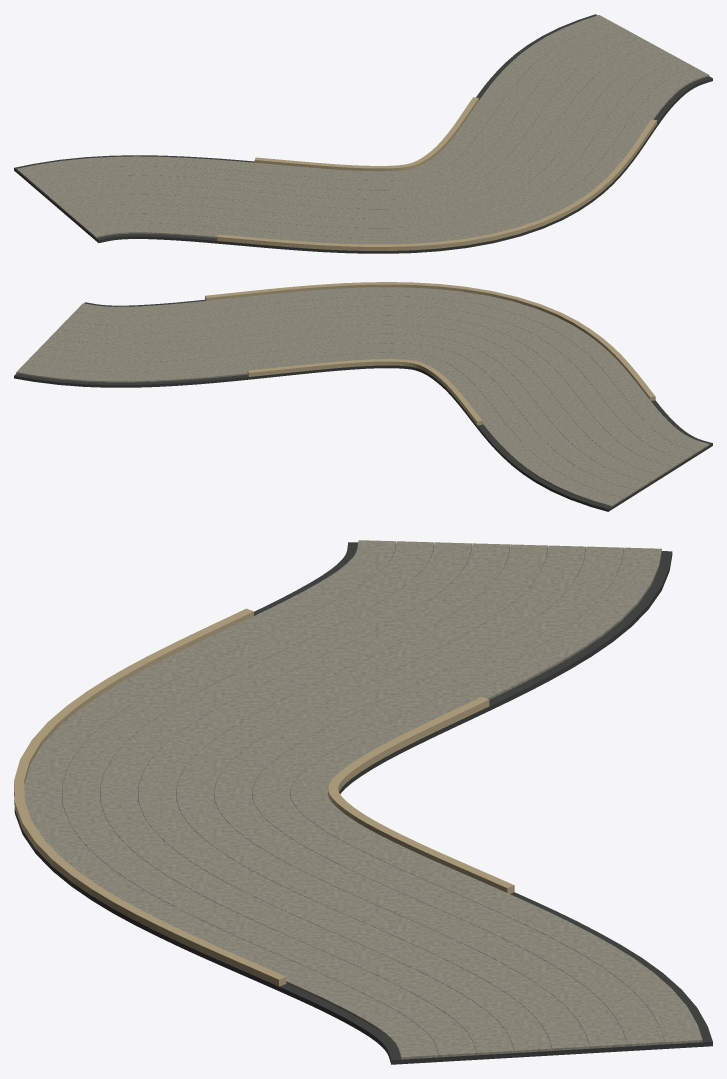
The model's file is track_island_01.fbx.
3 renders of one model, top to bottom at view 1: azimuth 30°, elevation 25°; view 2: azimuth 150°, elevation 25°; view 3: azimuth 270°, elevation 25°, orthographic. The views are drawn at different scales.
Parts seen in each view (by area): view 1: roman_concrete.001, travertine.001, basalt.001; view 2: roman_concrete.001, travertine.001, basalt.001; view 3: roman_concrete.001, travertine.001, basalt.001.
Part boxes in pixels (left/top/right/bottom): roman_concrete.001: left=16, top=15, right=709, bottom=244; travertine.001: left=217, top=97, right=656, bottom=250; basalt.001: left=14, top=14, right=712, bottom=253; roman_concrete.001: left=16, top=287, right=709, bottom=506; travertine.001: left=205, top=282, right=655, bottom=425; basalt.001: left=14, top=299, right=712, bottom=511; roman_concrete.001: left=24, top=540, right=702, bottom=1059; travertine.001: left=14, top=608, right=514, bottom=986; basalt.001: left=14, top=542, right=712, bottom=1064.
Size of the model in its own units: 386499 by 220415 by 4000.
